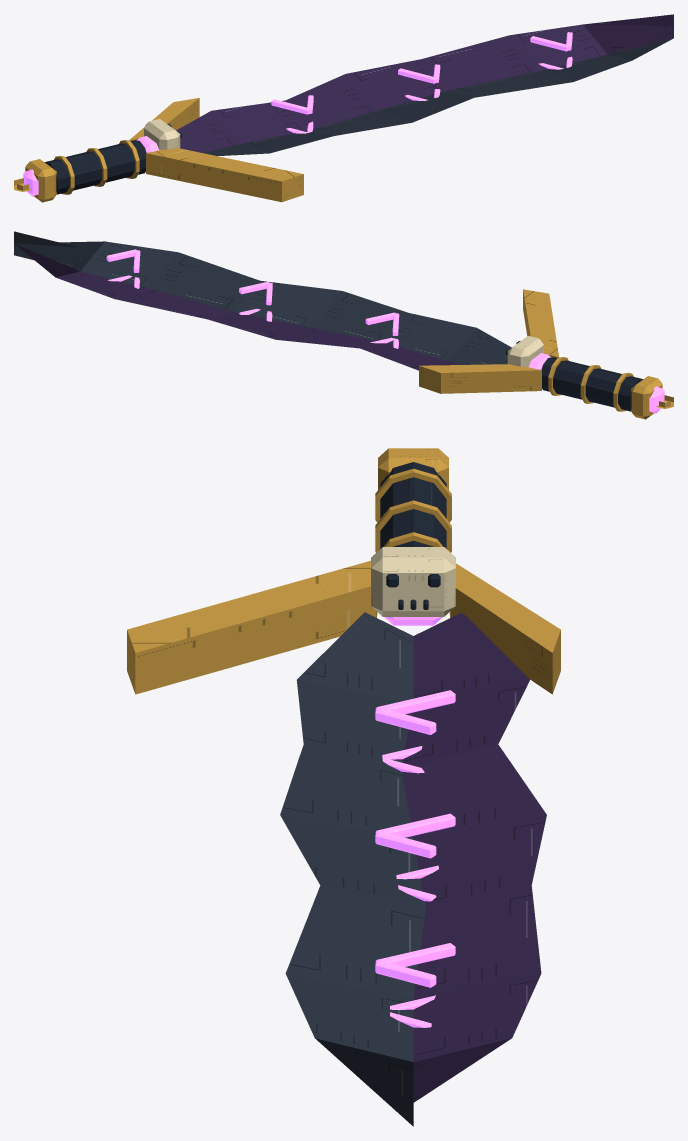
File: hexblade.glb
3 views of the same model, one above another, from view 1: azimuth 30°, elevation 25°; view 2: azimuth 150°, elevation 25°; view 3: azimuth 270°, elevation 25° (orthographic). The views are drawn at different scales.
Visible parts, largest first — view 1: blade, guard, grip; view 2: blade, guard, grip; view 3: blade, guard, grip.
Part boxes in pixels (bbox=[...]): blade: bbox=[176, 14, 673, 156]; guard: bbox=[129, 98, 303, 202]; grip: bbox=[14, 140, 146, 202]; blade: bbox=[14, 231, 511, 370]; guard: bbox=[419, 289, 559, 393]; grip: bbox=[541, 357, 673, 419]; blade: bbox=[280, 612, 546, 1126]; guard: bbox=[127, 547, 560, 694]; grip: bbox=[375, 448, 451, 552].
Bounding box in the file's own units: 1.1 × 0.0695 × 0.312.
Materials: 6 (6 with a texture image).
